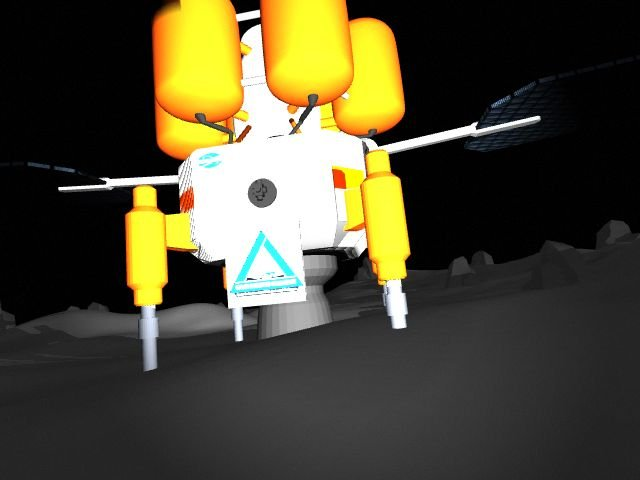basemarker: (229, 229, 305, 298)
